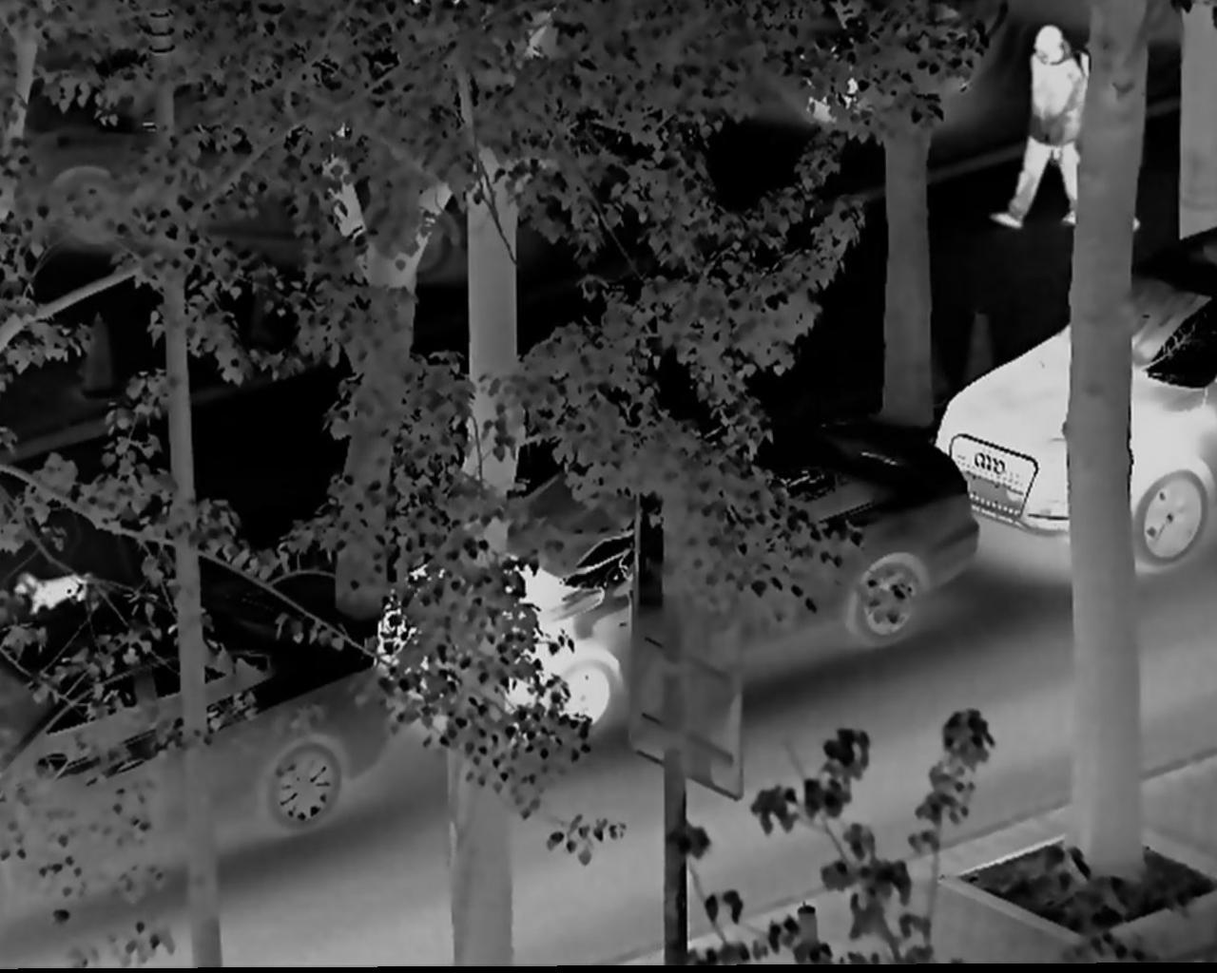person: (998, 16, 1110, 244)
